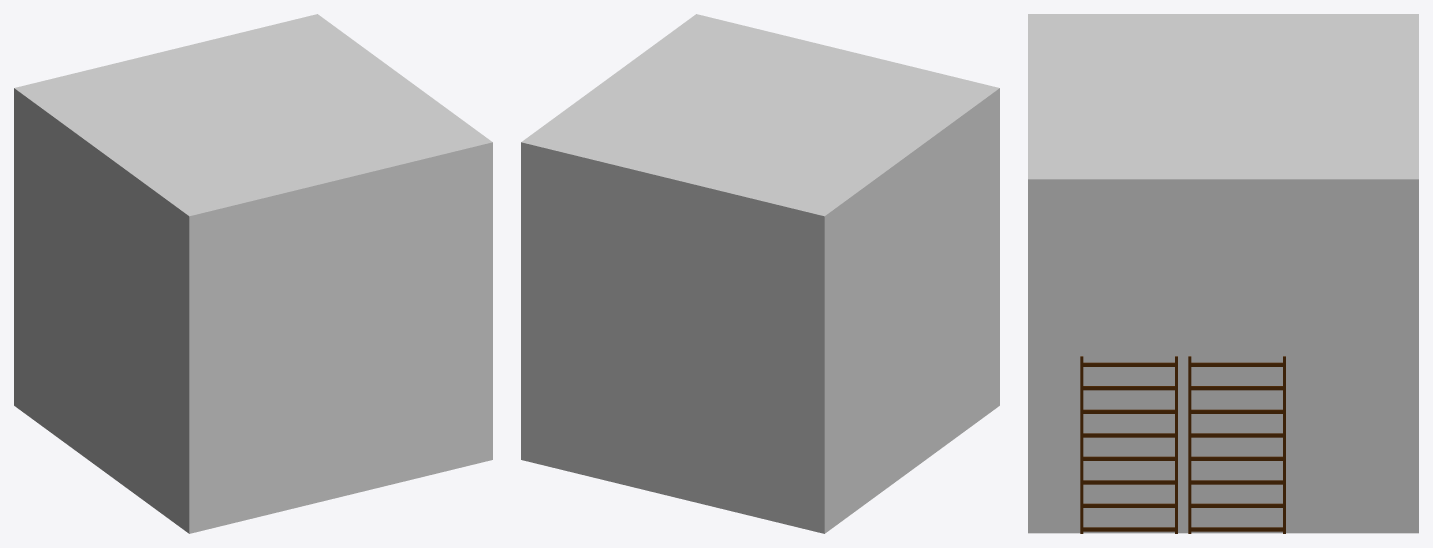
Rendered from Interior.3.fbx.
3 views of the same model, side by side, from view 1: azimuth 30°, elevation 25°; view 2: azimuth 150°, elevation 25°; view 3: azimuth 270°, elevation 25° (orthographic). The views are drawn at different scales.
Visible parts, largest first — view 1: Room; view 2: Room; view 3: Room, Shelves1, Shelves1.001.
Boxes of the visible parts, <box> form: Room: <box>14,14,492,533</box>; Room: <box>521,14,999,533</box>; Room: <box>1028,14,1418,533</box>; Shelves1: <box>1080,356,1177,533</box>; Shelves1.001: <box>1188,356,1285,533</box>.
Size of the model in its own units: 4.01 by 4.01 by 4.
